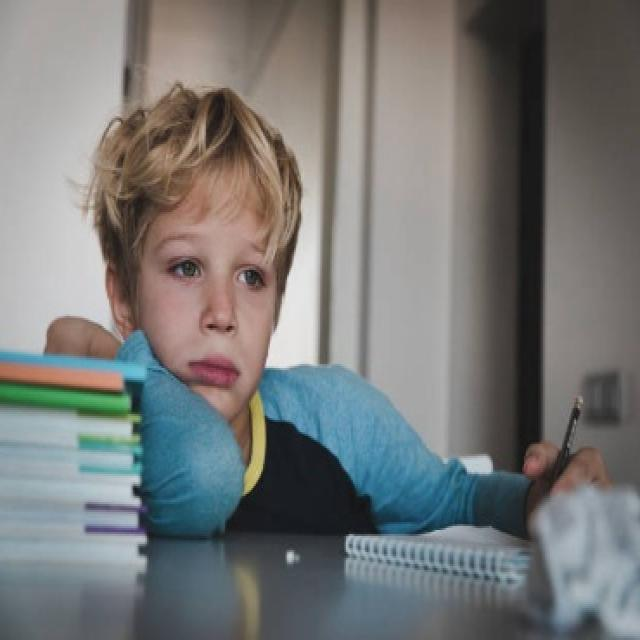child: (66, 82, 604, 550)
